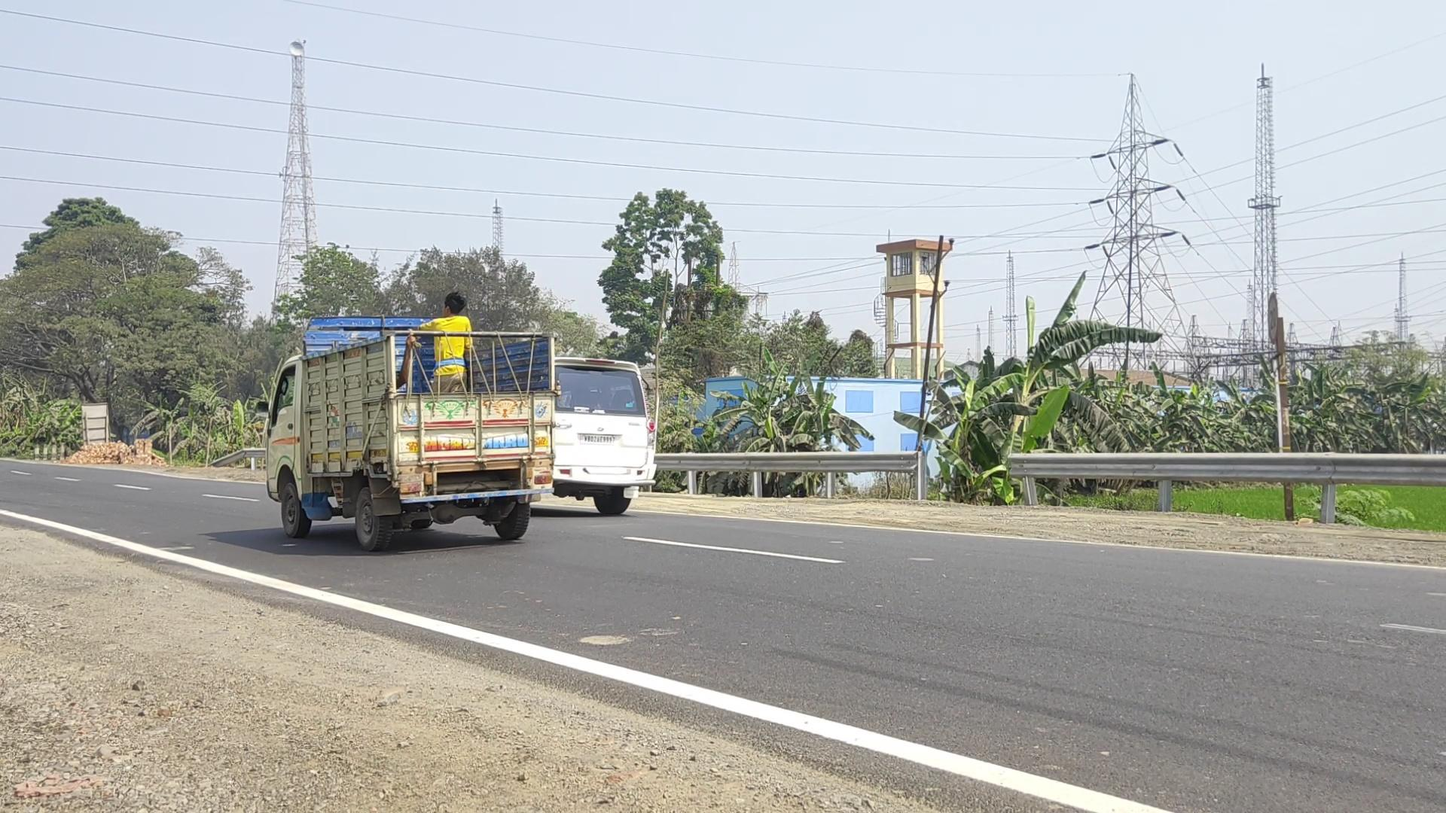car: (544, 355, 657, 519)
van: (263, 292, 560, 553)
